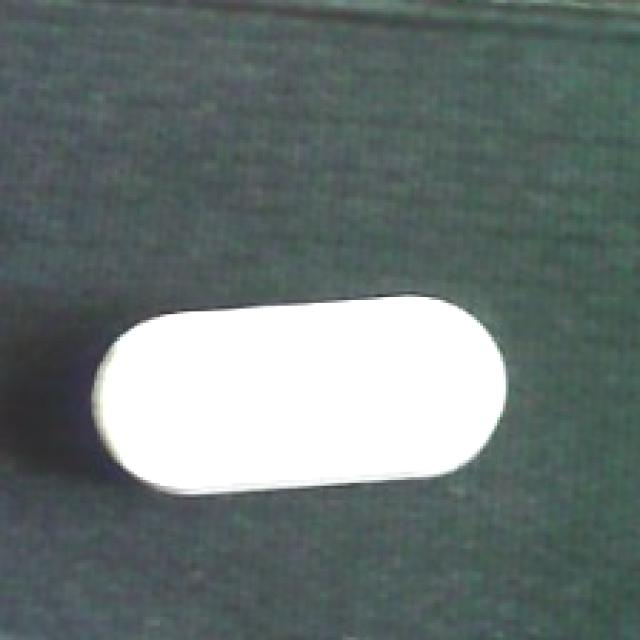no-defect: (89, 289, 514, 497)
